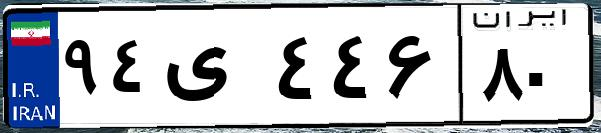0: (525, 38, 570, 115)
4: (270, 28, 330, 110), (330, 28, 385, 110), (110, 28, 158, 98)
6: (385, 28, 445, 110)
8: (475, 38, 525, 113)
9: (57, 26, 110, 100)
ی: (158, 20, 270, 120)
